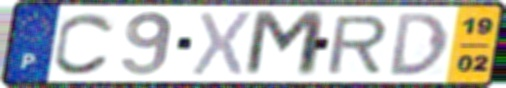9: (119, 10, 174, 78)
C: (51, 10, 118, 77)
D: (388, 11, 451, 78)
M: (240, 9, 329, 80)
R: (324, 13, 391, 76)
X: (188, 10, 257, 79)
